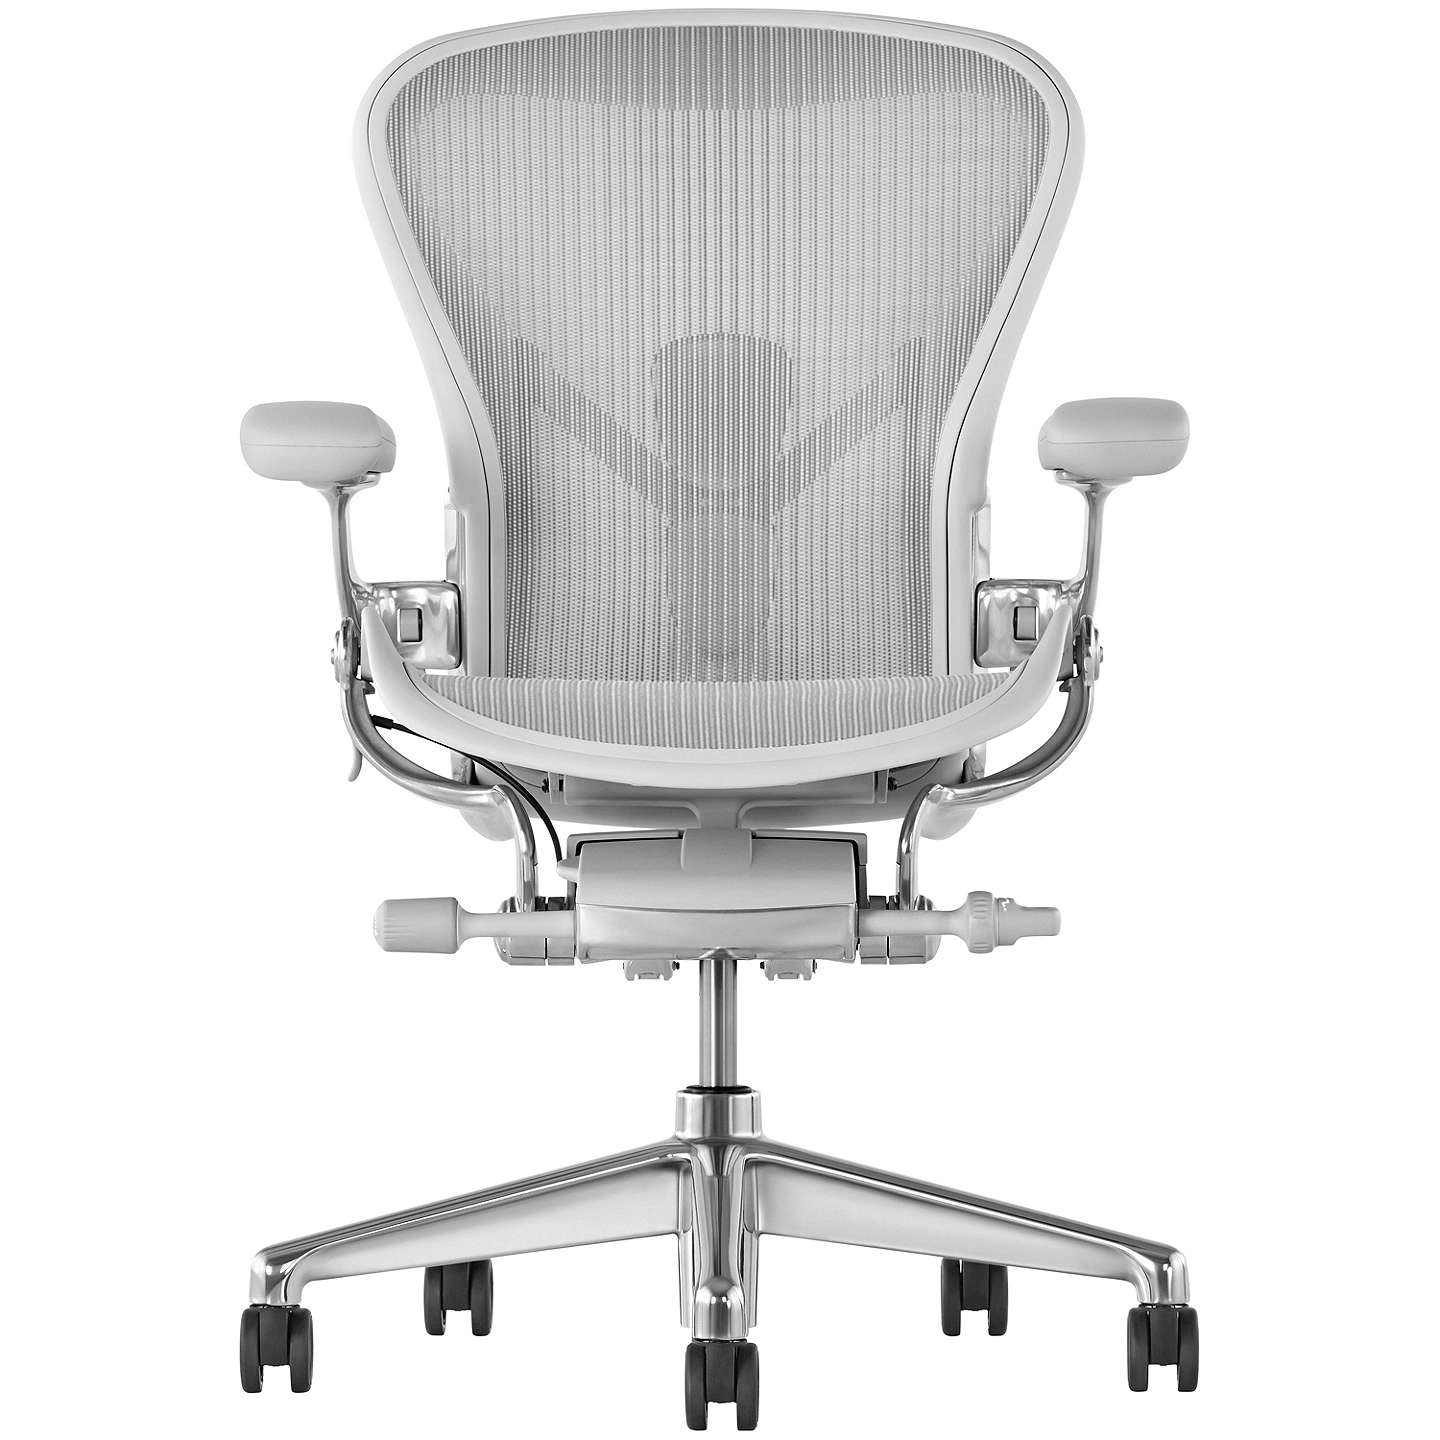chairs: (227, 12, 1222, 1427)
